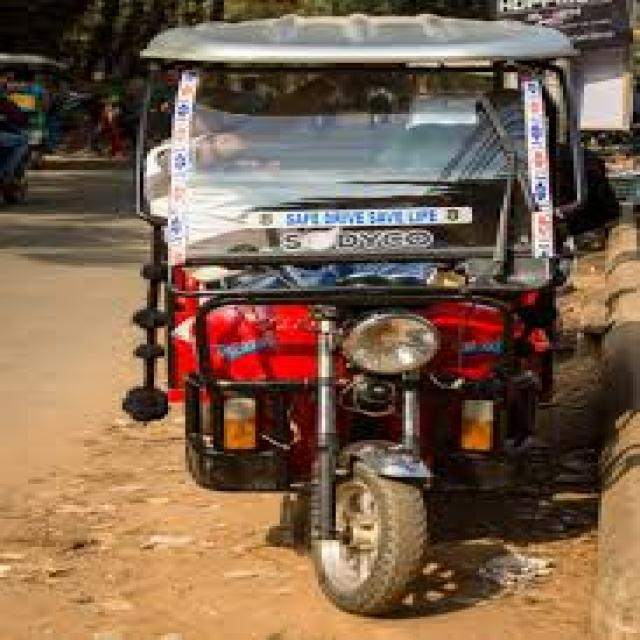Toto: (122, 0, 554, 602)
